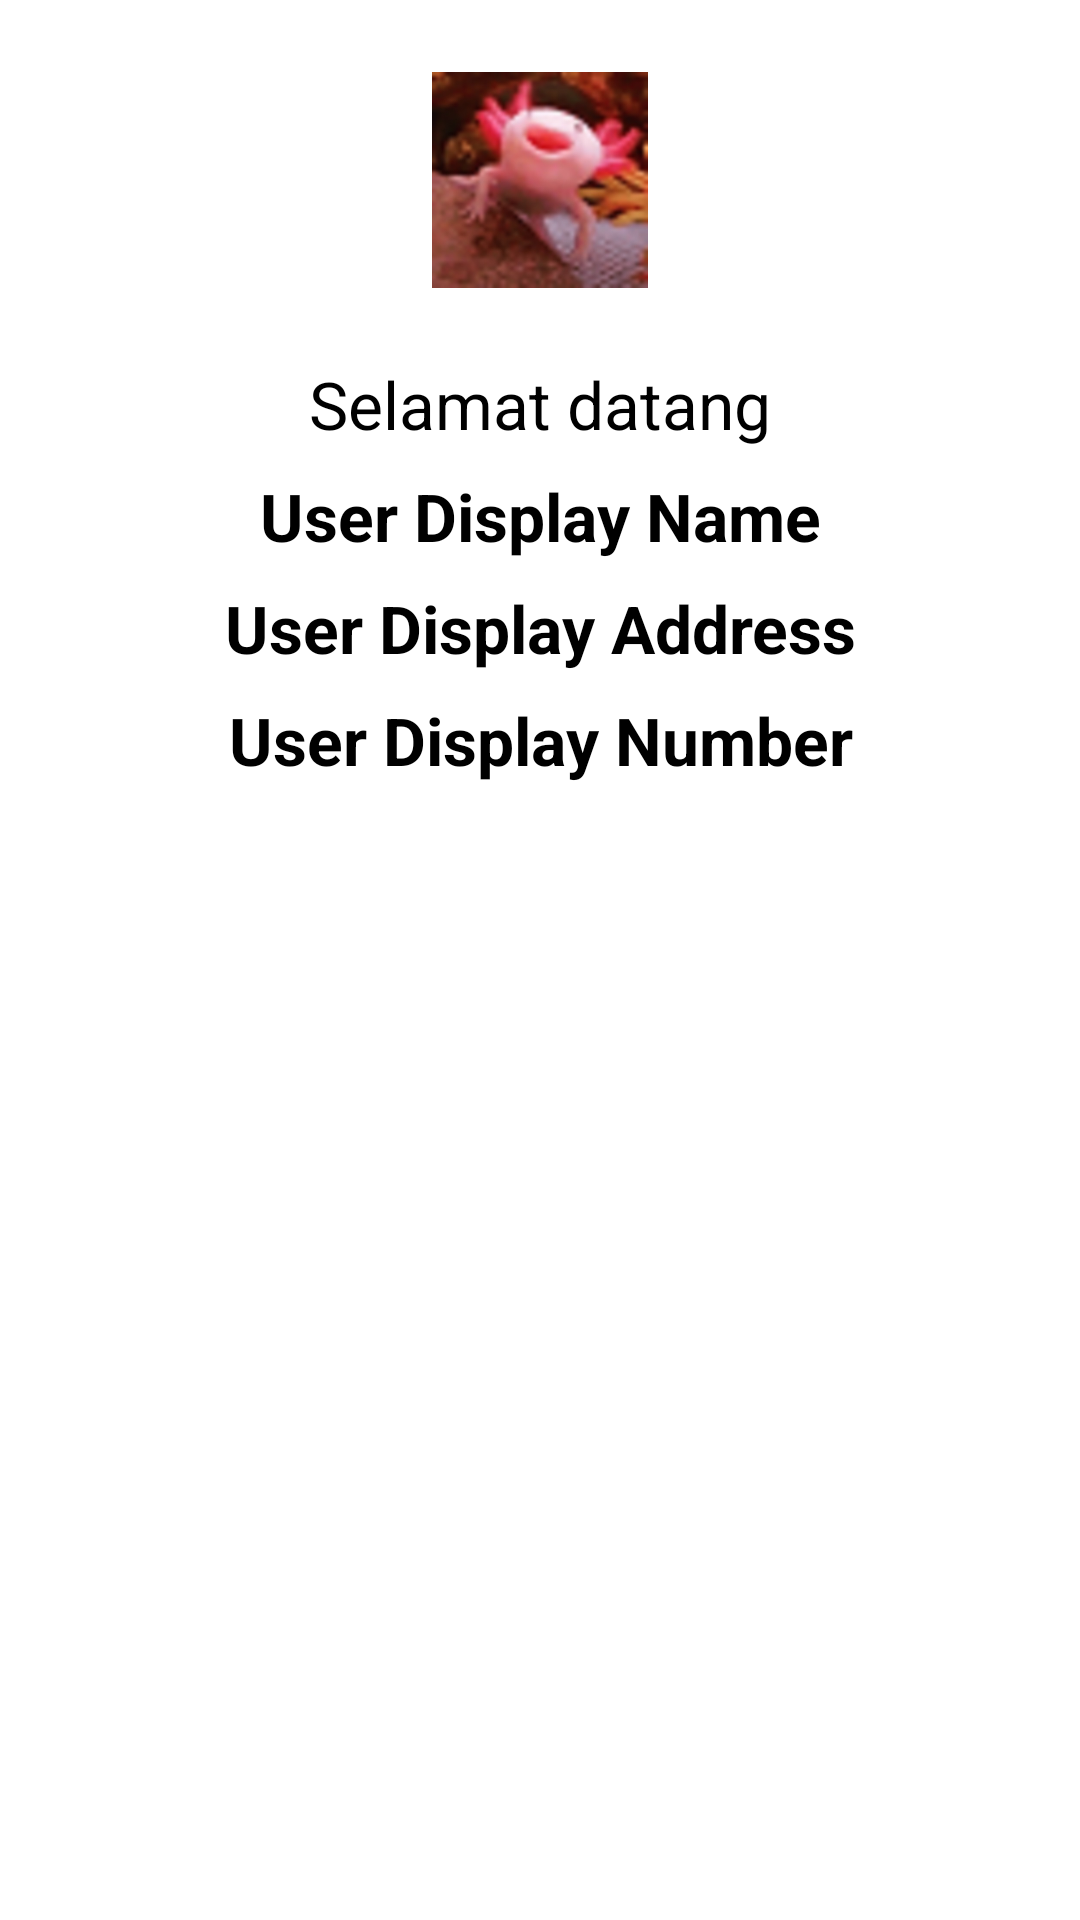

Icon click points for this 1080*1920 phone screenshot, format [x,y]:
axolotl: [540,180]
